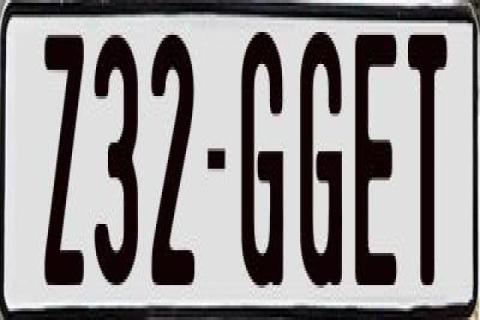0: (152, 27, 200, 286), (94, 35, 140, 303)
E: (356, 29, 402, 279)
G: (242, 26, 286, 288), (298, 29, 342, 285)
T: (404, 29, 446, 297)
Z: (44, 29, 85, 288)
